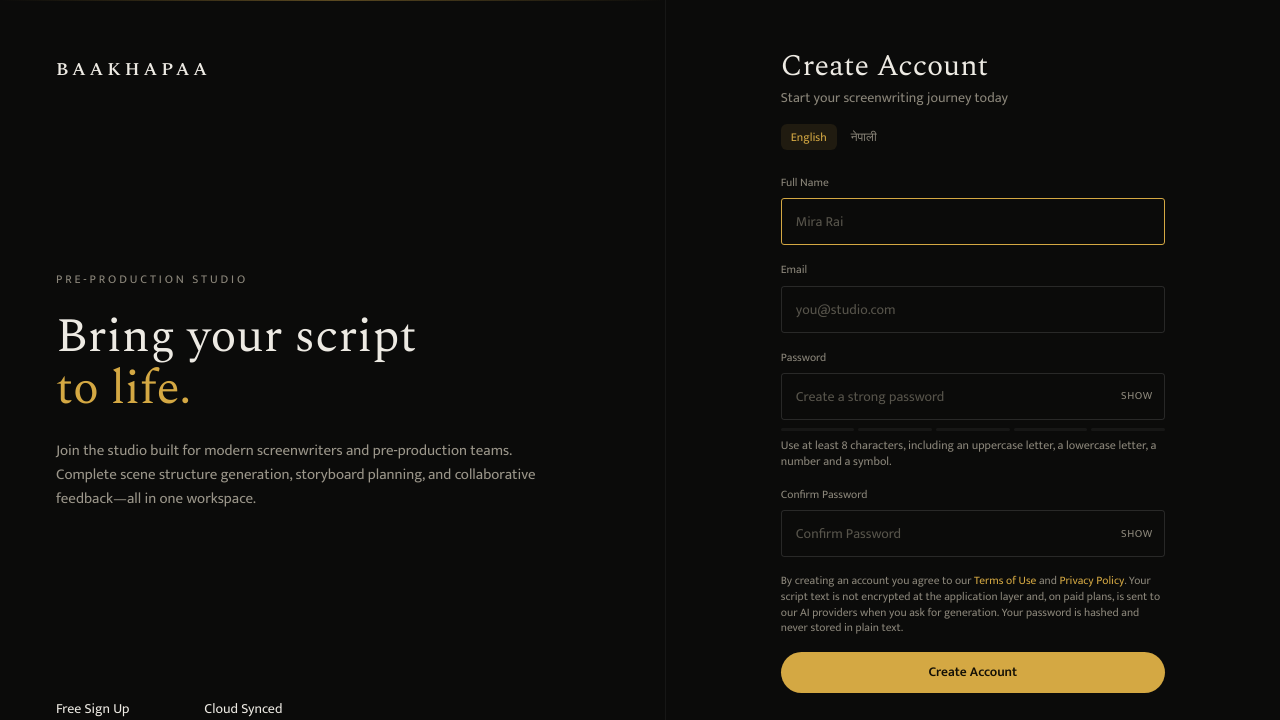
Scenario: a password that meets every rule says so in one line
Type "Kathmandu2026!" into the password field labelled "Password". click: {"x": 973, "y": 396}
box: x1=781 y1=373 x2=1165 y2=420
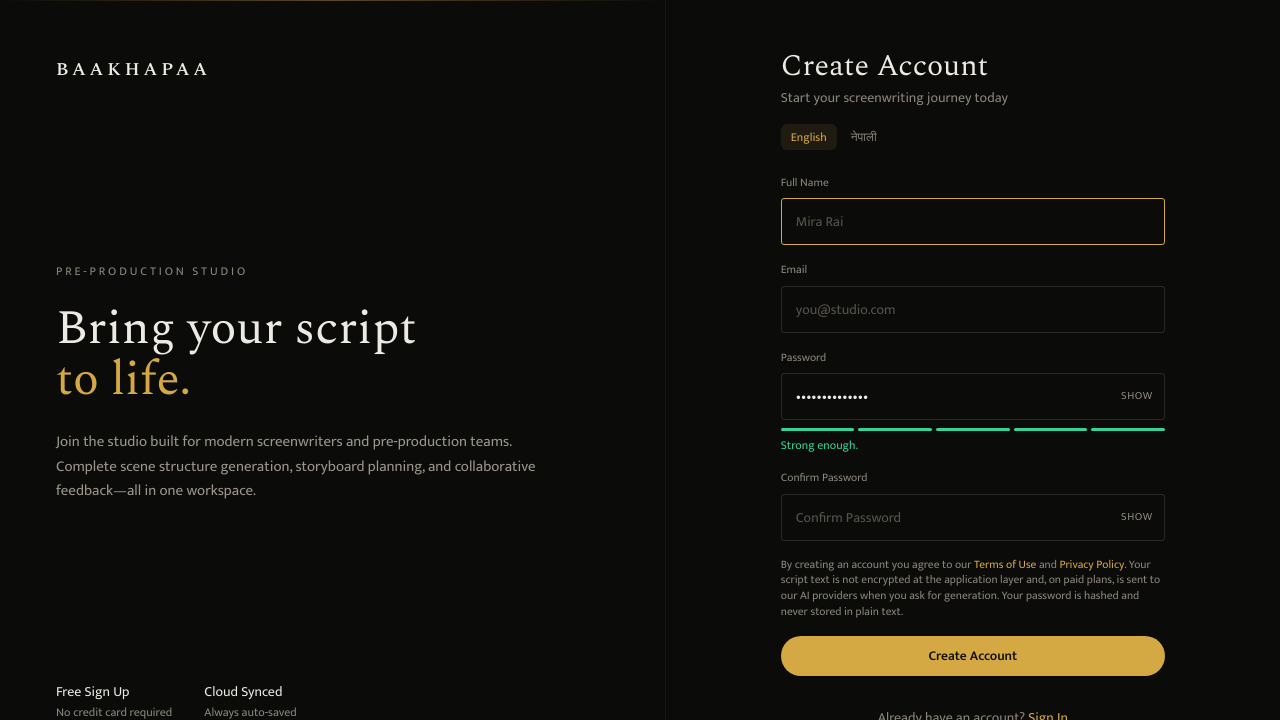
Expected: the text "Strong enough." is shown, x1=781 y1=435 x2=858 y2=455
